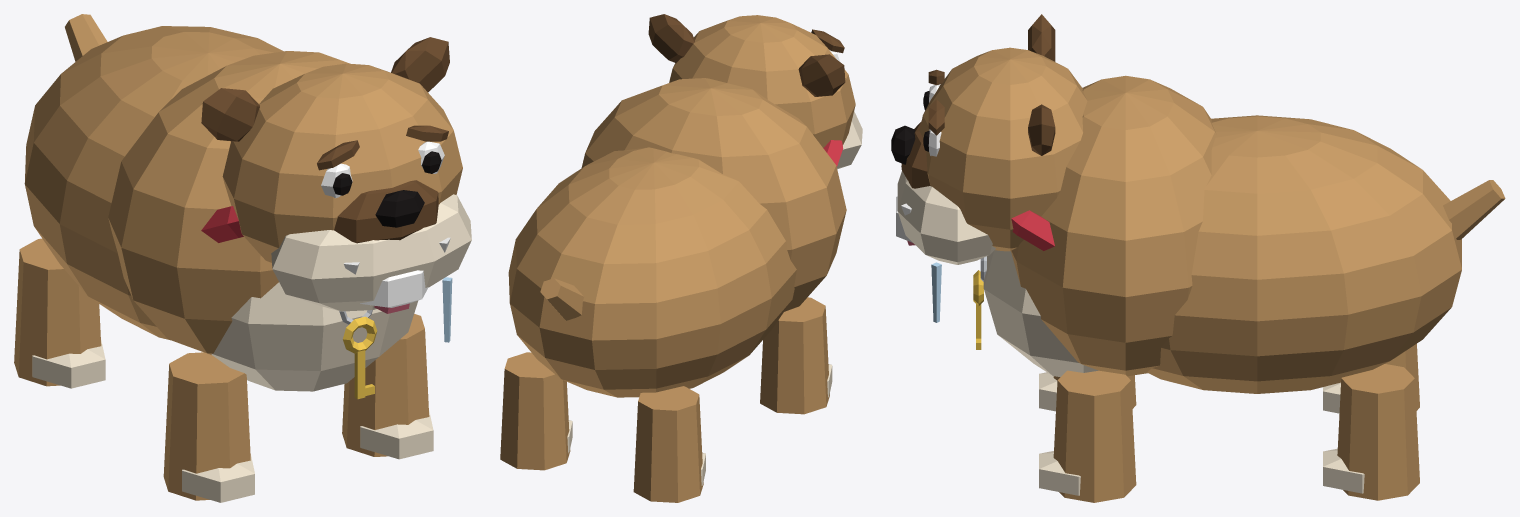
The model's file is guard_dog.glb.
3 views of the same model, side by side, from view 1: azimuth 30°, elevation 25°; view 2: azimuth 150°, elevation 25°; view 3: azimuth 270°, elevation 25° (orthographic). The views are drawn at different scales.
Parts seen in each view (by area): view 1: body_bulldog_fur, head_bulldog_fur, legs_bulldog_fur, body_bulldog_light, head_bulldog_light, head_bulldog_dark, legs_bulldog_light, head_dog_eye, head_dog_black, key_key_gold, tail_bulldog_fur, collar_collar_leather (+1 smaller); view 2: body_bulldog_fur, legs_bulldog_fur, head_bulldog_fur, head_bulldog_dark, tail_bulldog_fur, head_bulldog_light, legs_bulldog_light; view 3: body_bulldog_fur, head_bulldog_fur, legs_bulldog_fur, body_bulldog_light, head_bulldog_light, head_bulldog_dark, legs_bulldog_light, tail_bulldog_fur, collar_collar_leather, head_dog_black, head_dog_eye.
Boxes of the visible parts, box(x1,y1,x2,y2) form: body_bulldog_fur: box(24, 26, 349, 354); head_bulldog_fur: box(222, 63, 462, 262); legs_bulldog_fur: box(14, 238, 429, 500); body_bulldog_light: box(211, 282, 417, 391); head_bulldog_light: box(271, 194, 471, 311); head_bulldog_dark: box(201, 37, 449, 243); legs_bulldog_light: box(32, 340, 433, 502); head_dog_eye: box(321, 141, 450, 307); head_dog_black: box(333, 151, 441, 227); key_key_gold: box(342, 316, 377, 399); tail_bulldog_fur: box(65, 14, 107, 61); collar_collar_leather: box(201, 206, 243, 242); body_bulldog_fur: box(508, 78, 846, 397); legs_bulldog_fur: box(500, 297, 829, 502); head_bulldog_fur: box(669, 15, 855, 147); head_bulldog_dark: box(648, 14, 845, 96); tail_bulldog_fur: box(540, 278, 583, 320); head_bulldog_light: box(837, 111, 862, 169); legs_bulldog_light: box(567, 364, 832, 485); body_bulldog_fur: box(1011, 75, 1461, 393); head_bulldog_fur: box(919, 47, 1087, 251); legs_bulldog_fur: box(1053, 343, 1419, 502); body_bulldog_light: box(983, 250, 1098, 376); head_bulldog_light: box(897, 171, 995, 264); head_bulldog_dark: box(901, 14, 1055, 188); legs_bulldog_light: box(1039, 372, 1364, 495); tail_bulldog_fur: box(1443, 180, 1505, 239); collar_collar_leather: box(1011, 210, 1054, 250); head_dog_black: box(891, 91, 929, 164); head_dog_eye: box(896, 85, 941, 242).
Bounding box in the file's own units: 0.64 × 0.82 × 1.17.
